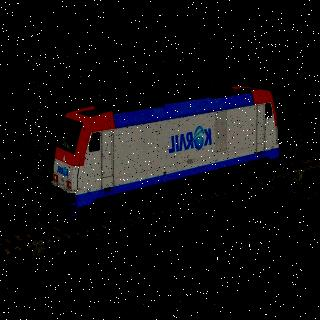poezd: (50, 71, 280, 220)
